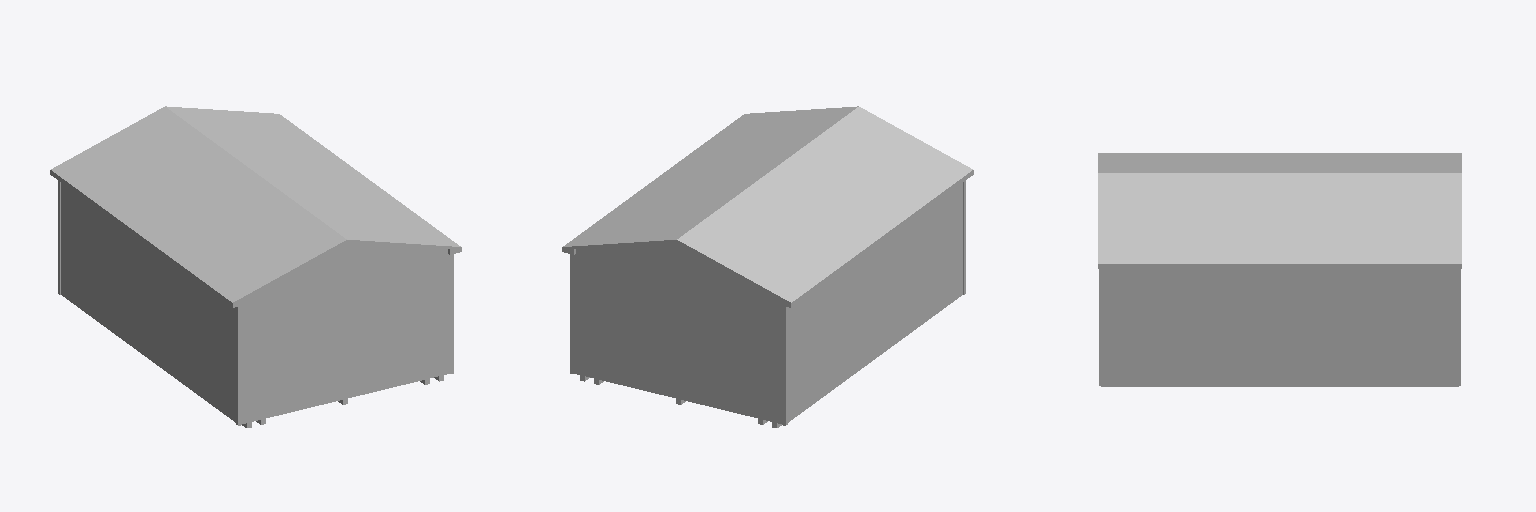
Rendered from 8 wide A-frame_7ft_14x20.obj.
The picture shows the model from 3 angles: view 1: azimuth 30°, elevation 25°; view 2: azimuth 150°, elevation 25°; view 3: azimuth 270°, elevation 25°; orthographic projection.
Parts seen in each view (by area): view 1: 8 wide A-frame_7ft_14x20.obj; view 2: 8 wide A-frame_7ft_14x20.obj; view 3: 8 wide A-frame_7ft_14x20.obj.
Boxes of the visible parts, box(x1,y1,x2,y2) form: 8 wide A-frame_7ft_14x20.obj: box(50, 106, 461, 427); 8 wide A-frame_7ft_14x20.obj: box(562, 106, 973, 427); 8 wide A-frame_7ft_14x20.obj: box(1098, 153, 1461, 386).
Bounding box in the file's own units: 4.5 × 3.12 × 6.2.